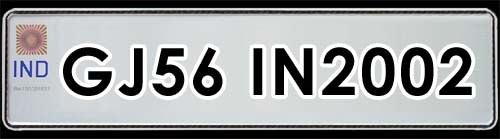number_plate: (2, 1, 500, 131)
